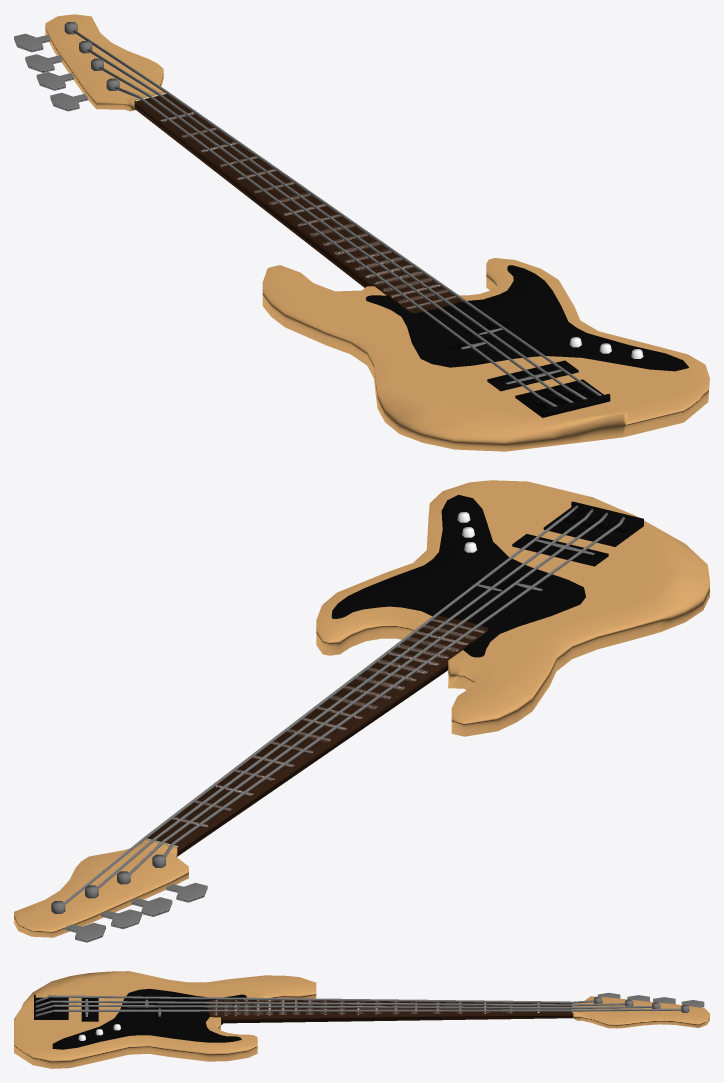
Rendered from bass_guitar.fbx.
The picture shows the model from 3 angles, top to bottom: view 1: azimuth 30°, elevation 25°; view 2: azimuth 150°, elevation 25°; view 3: azimuth 270°, elevation 25°; orthographic projection. The views are drawn at different scales.
Parts seen in each view (by area): view 1: body, thing, neck, Tuning part, Cube.002, Cube.003, Cube.004, Cube.005, Cube.001, Body; view 2: body, neck, thing, Tuning part, Cube.002, Cube.003, Cube.004, Cube.005, Cube.001, Body; view 3: body, neck, thing, Tuning part, Cube.002, Cube.003, Cube.004, Cube.005, Cube.001, Body.
Boxes of the visible parts, left/top/right/bottom form: body: left=262, top=258, right=709, bottom=451; thing: left=366, top=265, right=688, bottom=371; neck: left=134, top=94, right=461, bottom=313; Tuning part: left=45, top=14, right=164, bottom=111; Cube.002: left=72, top=30, right=601, bottom=395; Cube.003: left=87, top=49, right=587, bottom=399; Cube.004: left=99, top=66, right=573, bottom=402; Cube.005: left=114, top=86, right=557, bottom=406; Cube.001: left=515, top=379, right=610, bottom=417; Body: left=487, top=360, right=578, bottom=391; body: left=316, top=480, right=709, bottom=736; neck: left=147, top=615, right=488, bottom=856; thing: left=331, top=494, right=585, bottom=657; Tuning part: left=14, top=840, right=188, bottom=937; Cube.002: left=64, top=505, right=578, bottom=904; Cube.003: left=97, top=509, right=593, bottom=888; Cube.004: left=129, top=512, right=608, bottom=874; Cube.005: left=163, top=516, right=625, bottom=856; Cube.001: left=543, top=501, right=643, bottom=546; Body: left=512, top=534, right=608, bottom=566; body: left=14, top=971, right=316, bottom=1068; neck: left=208, top=999, right=573, bottom=1024; thing: left=52, top=988, right=246, bottom=1049; Tuning part: left=573, top=996, right=709, bottom=1028; Cube.002: left=35, top=1008, right=681, bottom=1016; Cube.003: left=35, top=1004, right=652, bottom=1011; Cube.004: left=35, top=1000, right=625, bottom=1007; Cube.005: left=35, top=995, right=594, bottom=1003; Cube.001: left=34, top=994, right=68, bottom=1019; Body: left=81, top=998, right=98, bottom=1021.
Size of the model in its own units: 68.9 by 8.16 by 237.
Materials: 6 (1 with a texture image).
